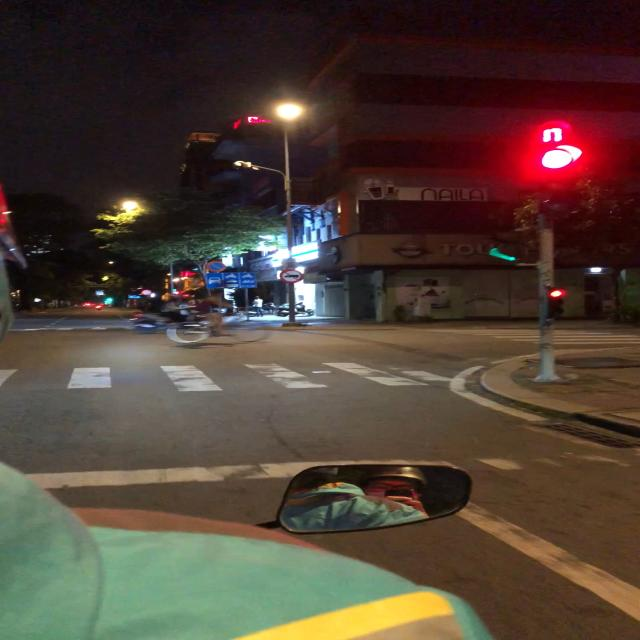Bien bao cam do xe: (203, 261, 229, 273)
Bien bao cam xe so-mi ro-mooc: (277, 268, 308, 284)
